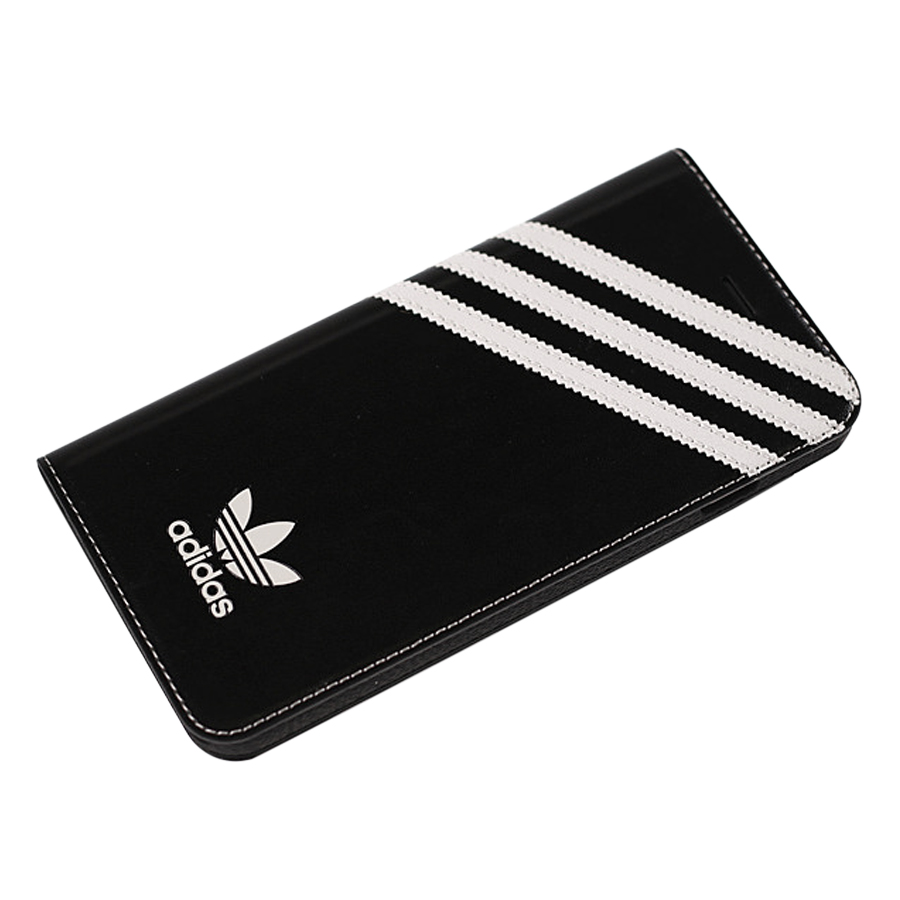Adidas: (165, 484, 307, 621)
